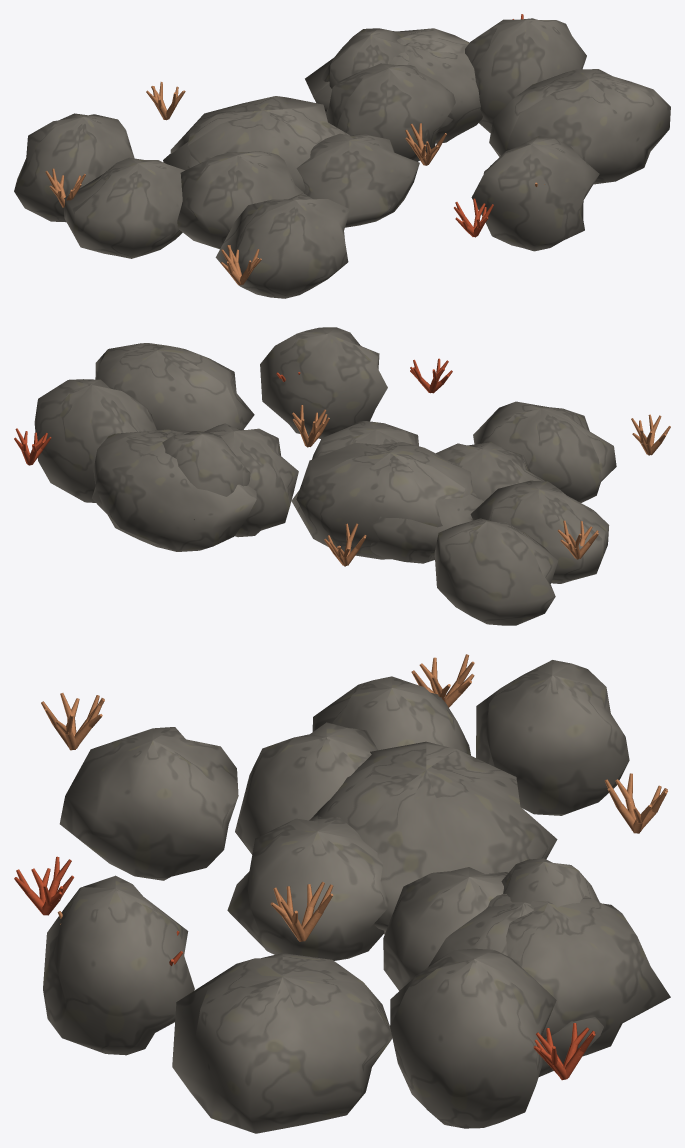
Rendered from SM_Art_OuterReef.gltf.
3 renders of one model, top to bottom at view 1: azimuth 30°, elevation 25°; view 2: azimuth 150°, elevation 25°; view 3: azimuth 270°, elevation 25°, orthographic. The views are drawn at different scales.
Visible parts, largest first — view 1: SM_Art_OuterReef; view 2: SM_Art_OuterReef; view 3: SM_Art_OuterReef.
Boxes of the visible parts, x1,y1,x2,y2 form: SM_Art_OuterReef: (14, 14, 670, 298); SM_Art_OuterReef: (14, 327, 670, 625); SM_Art_OuterReef: (14, 654, 670, 1133).
Size of the model in its own units: 6.64 by 1.27 by 4.49.
3 materials, 3 textured.
